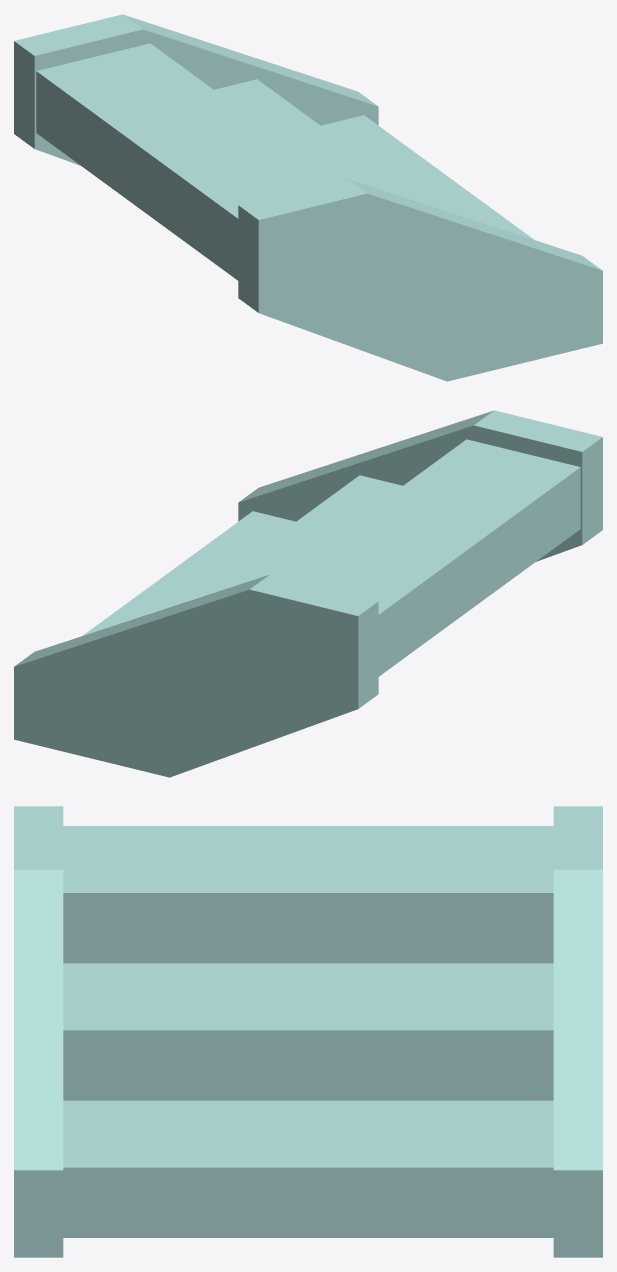
The model's file is DarkWood_Stairs_Small.fbx.
3 views of the same model, one above another, from view 1: azimuth 30°, elevation 25°; view 2: azimuth 150°, elevation 25°; view 3: azimuth 270°, elevation 25° (orthographic). The views are drawn at different scales.
Parts seen in each view (by area): view 1: DarkWood_Stairs_Small; view 2: DarkWood_Stairs_Small; view 3: DarkWood_Stairs_Small.
Boxes of the visible parts, x1,y1,x2,y2 form: DarkWood_Stairs_Small: (14,14,602,381); DarkWood_Stairs_Small: (14,410,602,777); DarkWood_Stairs_Small: (14,806,602,1257).
Size of what is drawn, in the model's own units: 96.6 by 55.66 by 119.
